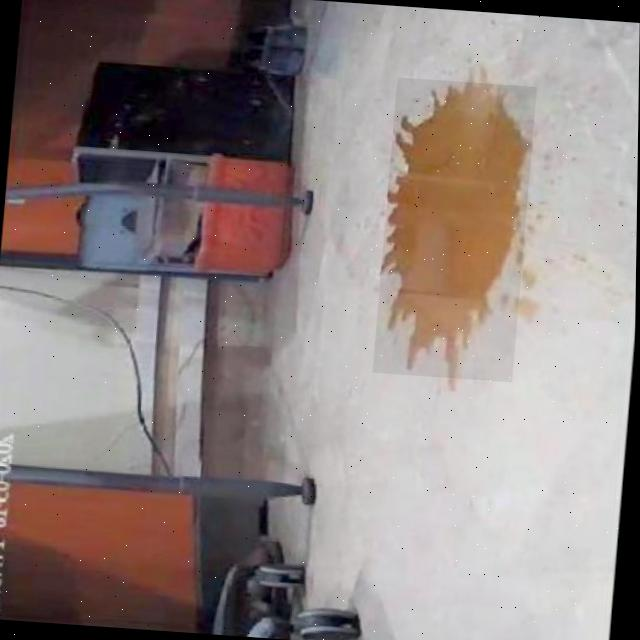spillage: (382, 81, 532, 376)
